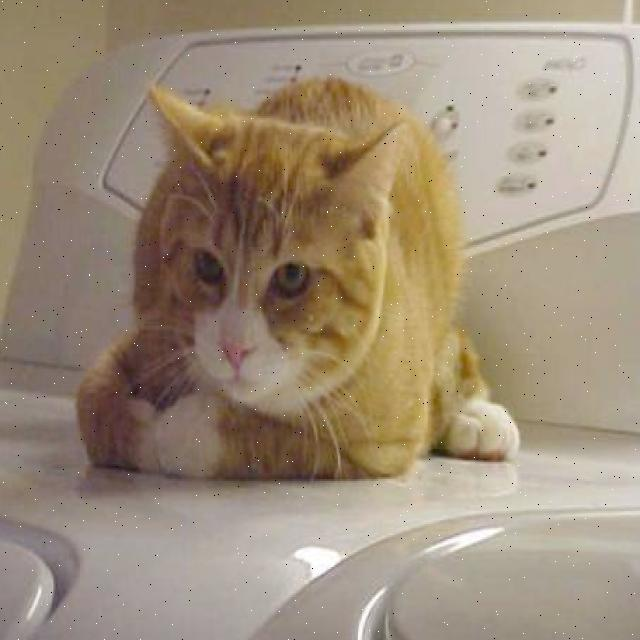Cat: (93, 75, 430, 452)
